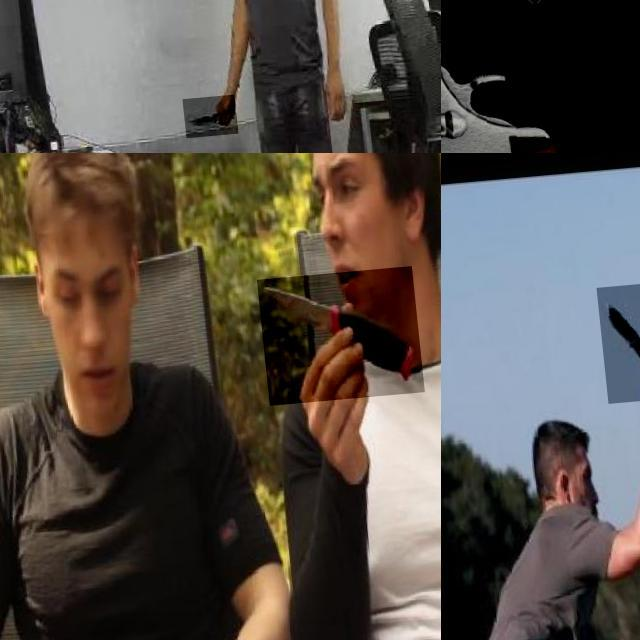-: (252, 275, 417, 412), (592, 289, 640, 409), (172, 99, 228, 142)
gun-knife-thesis - v11 Yolov5 augmented: (441, 4, 640, 153)
